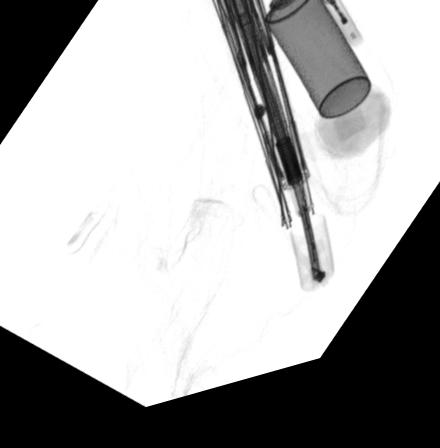Lighter: (312, 0, 365, 68)
Sprayer: (253, 0, 372, 135)
